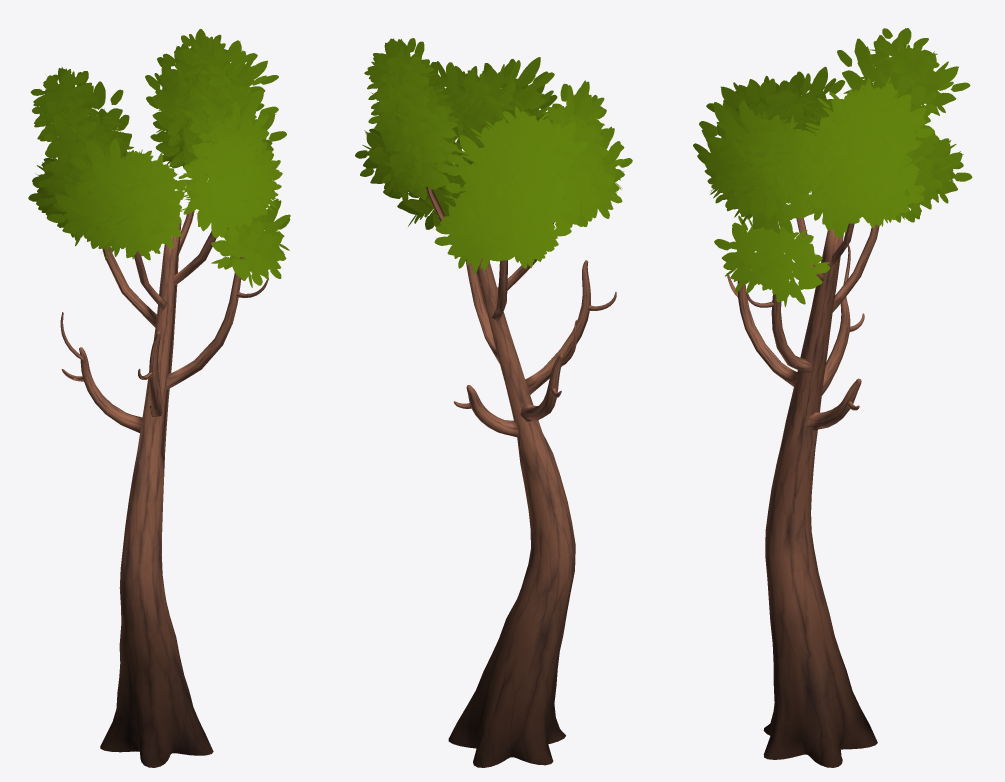
The model's file is CommonTree_4.gltf.
3 renders of one model, left to right at view 1: azimuth 30°, elevation 25°; view 2: azimuth 150°, elevation 25°; view 3: azimuth 270°, elevation 25°, orthographic. The views are drawn at different scales.
Parts seen in each view (by area): view 1: CommonTree_4; view 2: CommonTree_4; view 3: CommonTree_4.
Part boxes in pixels (x1,y1,x2,y2): CommonTree_4: [28, 29, 290, 767]; CommonTree_4: [355, 38, 632, 767]; CommonTree_4: [693, 28, 972, 767].
Bounding box in the file's own units: 3.83 × 9.44 × 3.76.
Materials: 2 (2 with a texture image).
